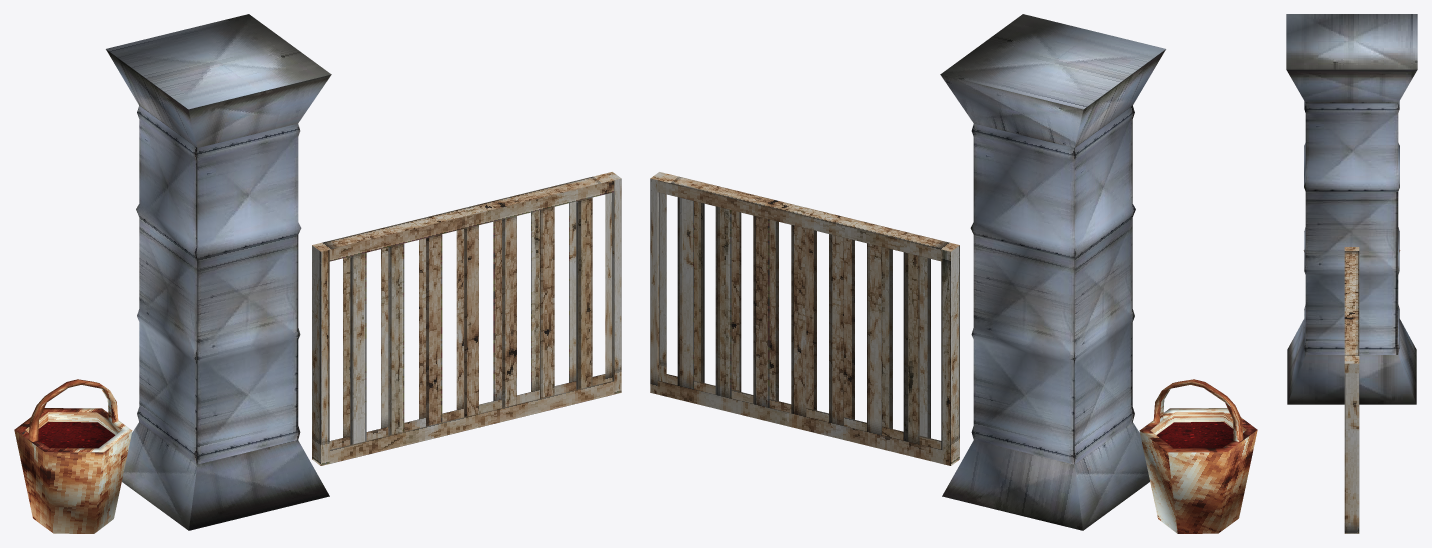
Rendered from horror_game_prop_collection_2.glb.
The picture shows the model from 3 angles, left to right: view 1: azimuth 30°, elevation 25°; view 2: azimuth 150°, elevation 25°; view 3: azimuth 270°, elevation 25°; orthographic projection. The views are drawn at different scales.
Visible parts, largest first — view 1: Vent, Bars, Bucket; view 2: Vent, Bars, Bucket; view 3: Vent, Bars.
Part boxes in pixels (x1=…): Vent: x1=106, y1=14, x2=331, y2=530; Bars: x1=312, y1=172, x2=621, y2=465; Bucket: x1=14, y1=379, x2=132, y2=533; Vent: x1=940, y1=14, x2=1165, y2=530; Bars: x1=650, y1=172, x2=959, y2=465; Bucket: x1=1139, y1=379, x2=1257, y2=533; Vent: x1=1286, y1=14, x2=1417, y2=404; Bars: x1=1344, y1=247, x2=1359, y2=533.
Size of the model in its own units: 23.71 by 16.38 by 5.78.
Materials: 3 (3 with a texture image).
